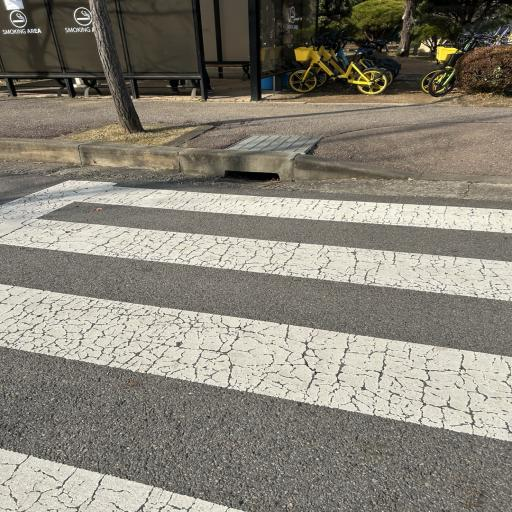drain: (226, 135, 320, 154)
